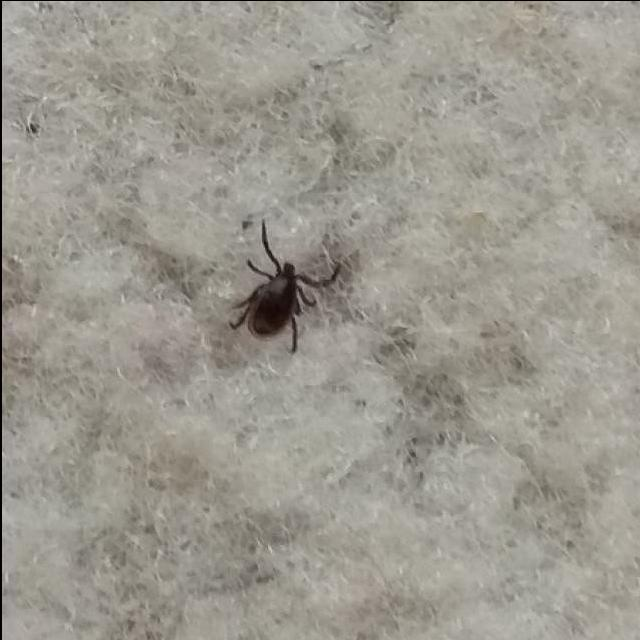Ixodes Ricinus-M: (223, 219, 343, 355)
